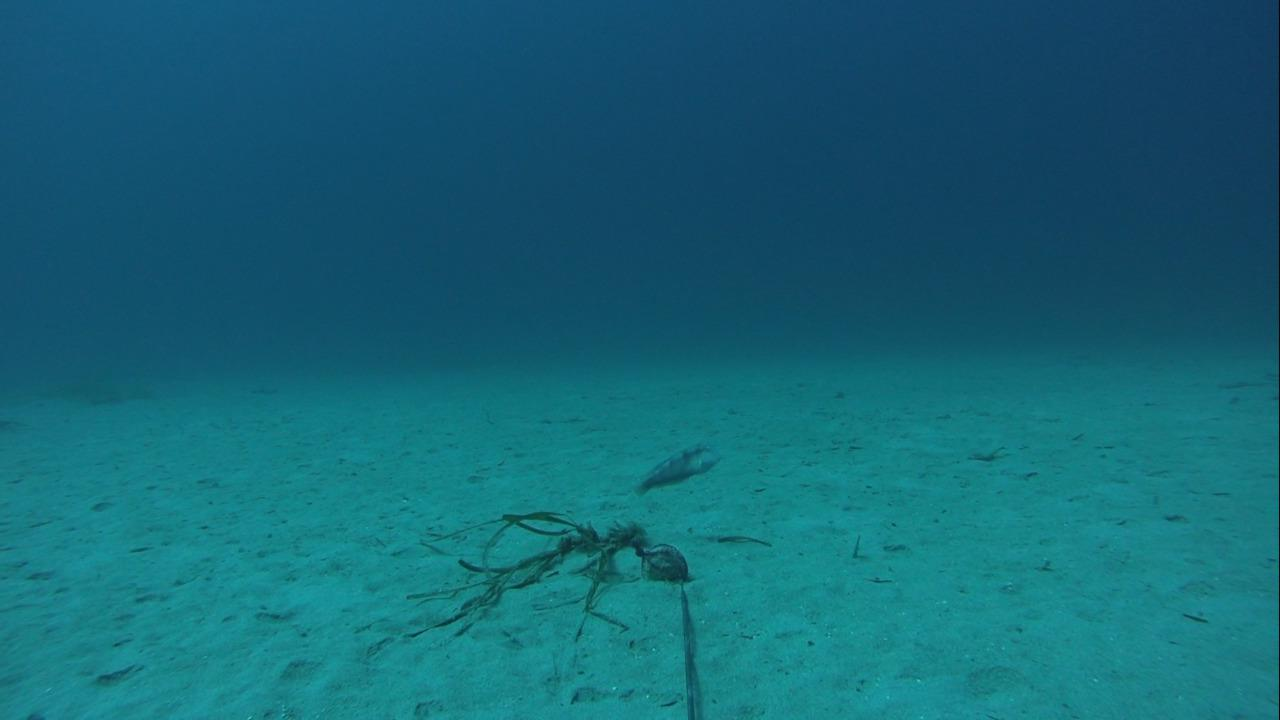raor: (625, 440, 724, 499)
